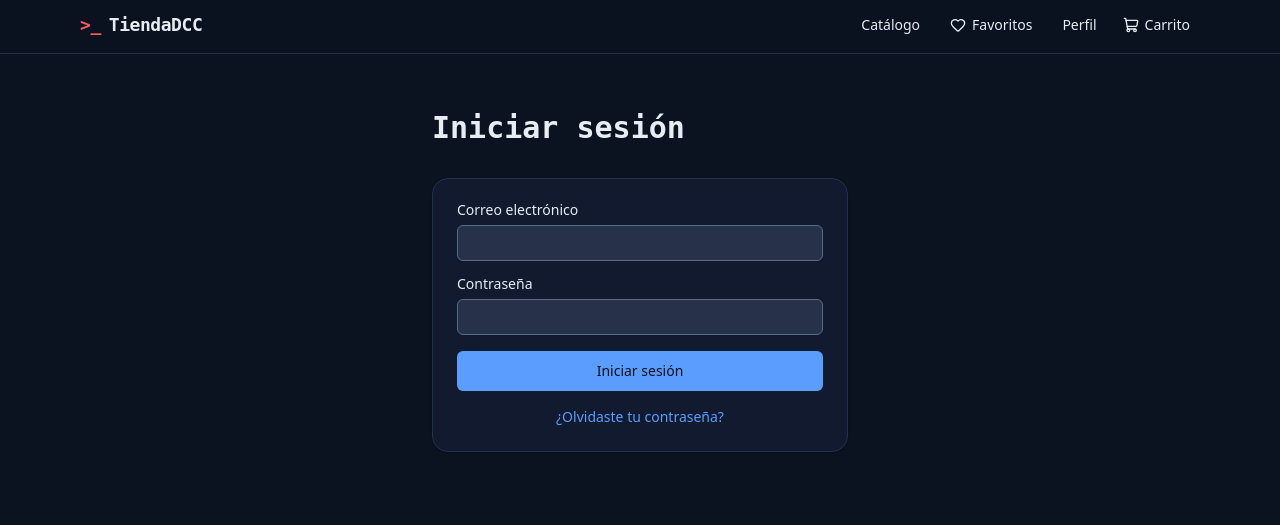
Test: LoginPage › shows per-field errors and does not send the request
Click the button "Iniciar sesión": x=640, y=371 [457,351,823,391]
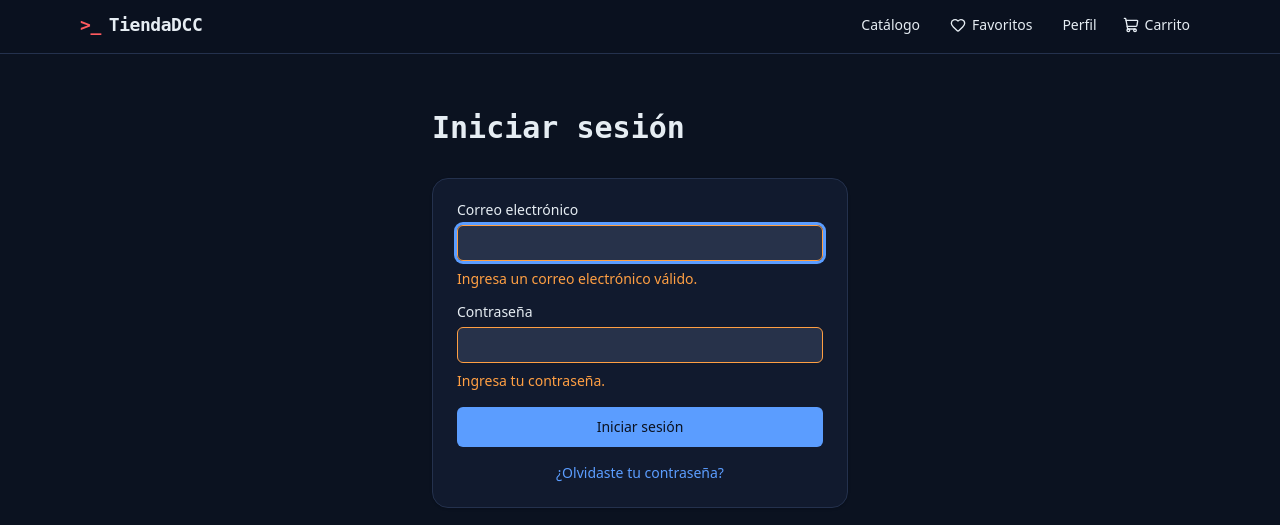
Now the text "Ingresa un correo electrónico válido." is shown, box [457,269,697,288]
Now the text "Ingresa tu contraseña." is shown, box [457,371,605,390]
Now the number of messages is 2, box [457,269,697,288]; [457,371,605,390]
